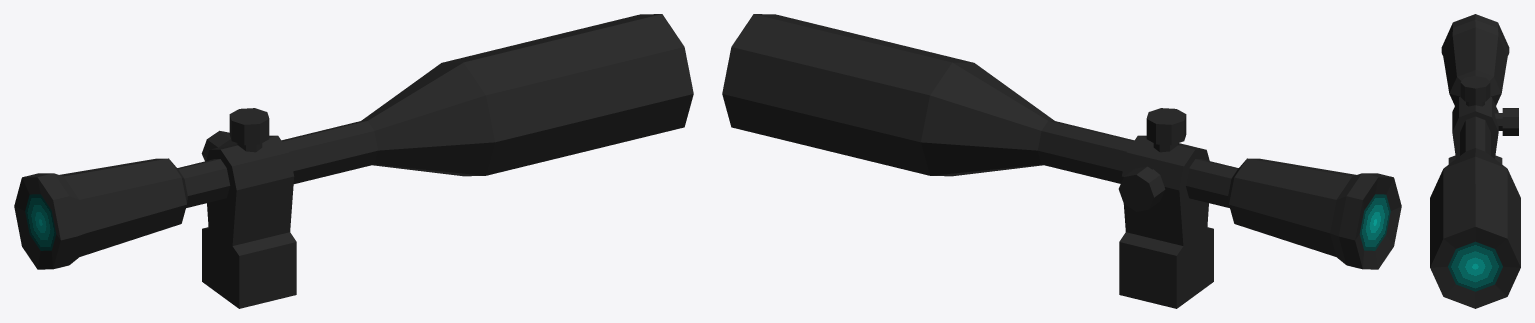
The model's file is Accessories_Sniper_Scope_A.FBX.
The picture shows the model from 3 angles, left to right: view 1: azimuth 30°, elevation 25°; view 2: azimuth 150°, elevation 25°; view 3: azimuth 270°, elevation 25°; orthographic projection. The views are drawn at different scales.
Parts seen in each view (by area): view 1: Accessories_Sniper_Scope_A; view 2: Accessories_Sniper_Scope_A; view 3: Accessories_Sniper_Scope_A.
Part boxes in pixels (x1=…): Accessories_Sniper_Scope_A: x1=14, y1=14, x2=693, y2=308; Accessories_Sniper_Scope_A: x1=722, y1=14, x2=1401, y2=308; Accessories_Sniper_Scope_A: x1=1430, y1=14, x2=1520, y2=308.
Bounding box in the file's own units: 140 × 37.25 × 24.43.
